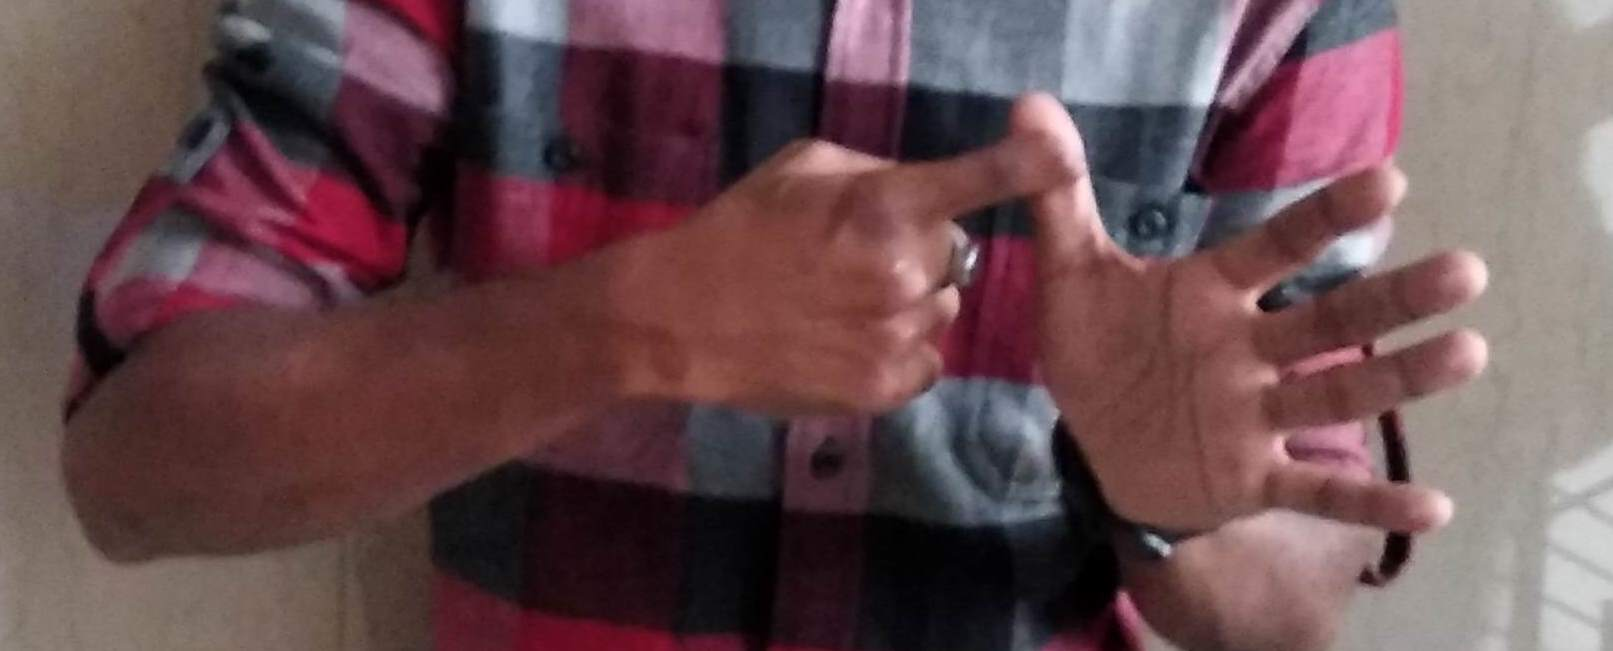a: (704, 126, 1441, 517)
